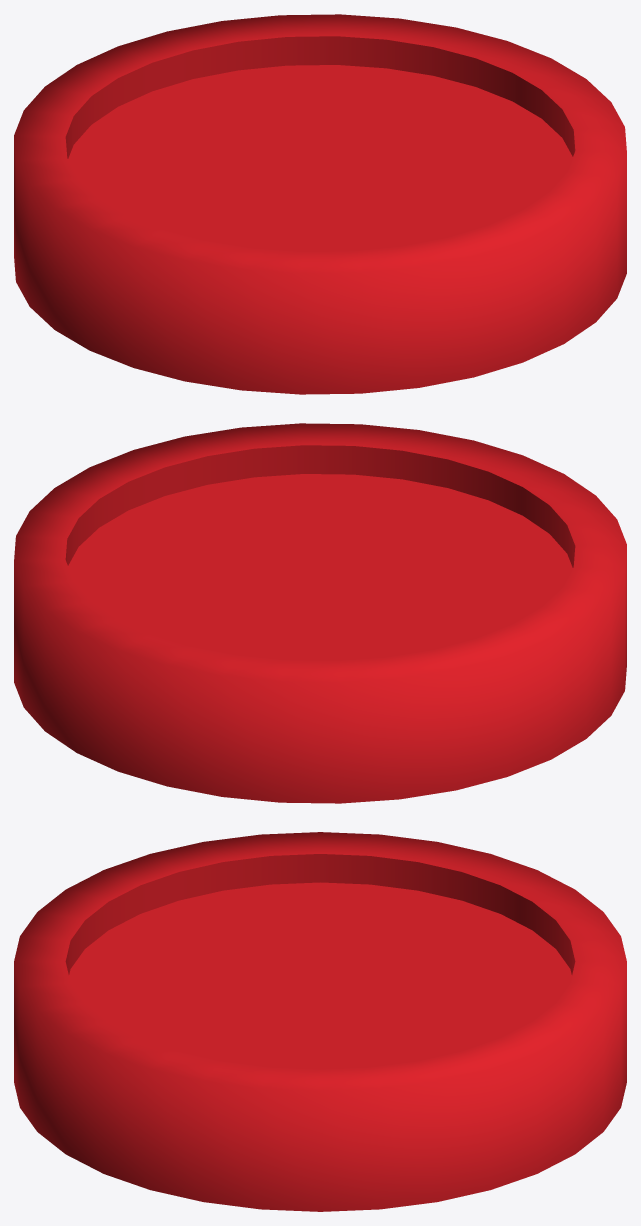
The model's file is checker_red.gltf.
3 renders of one model, top to bottom at view 1: azimuth 30°, elevation 25°; view 2: azimuth 150°, elevation 25°; view 3: azimuth 270°, elevation 25°, orthographic.
Parts seen in each view (by area): view 1: checker_red; view 2: checker_red; view 3: checker_red.
Part boxes in pixels (<box>): checker_red: <box>14,14,626,394</box>; checker_red: <box>14,423,626,803</box>; checker_red: <box>14,832,626,1211</box>.
Size of the model in its own units: 1.6 by 0.348 by 1.6.
